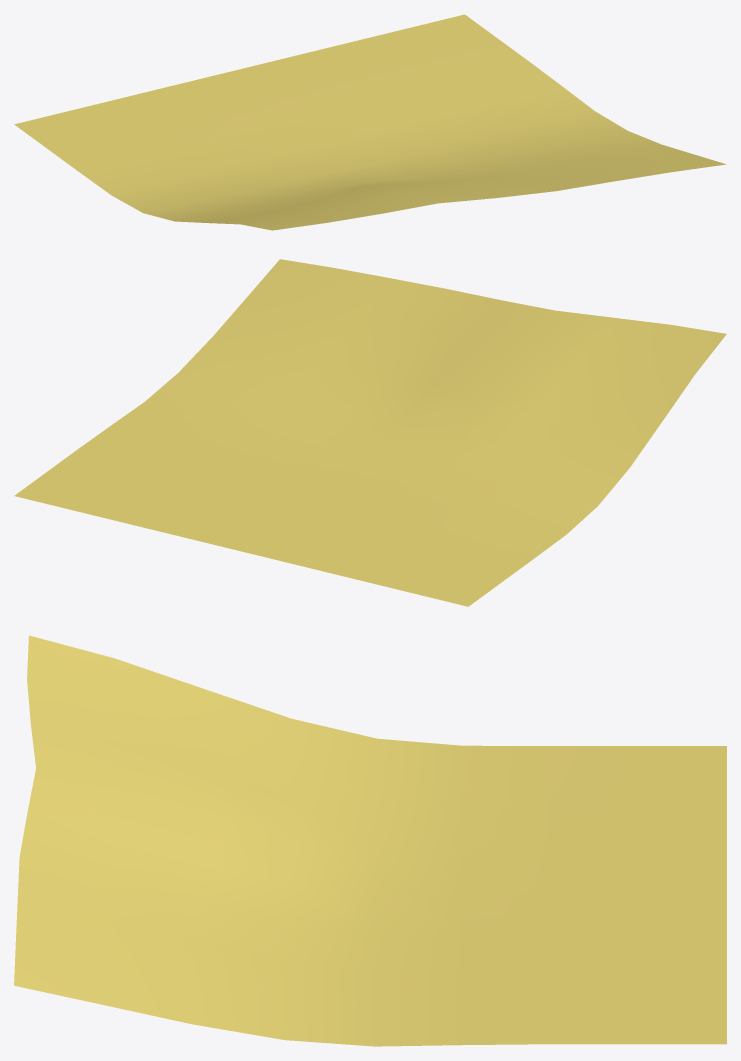
The model's file is Sticky Note.fbx.
The picture shows the model from 3 angles, top to bottom: view 1: azimuth 30°, elevation 25°; view 2: azimuth 150°, elevation 25°; view 3: azimuth 270°, elevation 25°; orthographic projection. The views are drawn at different scales.
Parts seen in each view (by area): view 1: StickyNote; view 2: StickyNote; view 3: StickyNote.
Part boxes in pixels (x1,y1,x2,y2): StickyNote: [14, 14, 726, 230]; StickyNote: [14, 259, 726, 606]; StickyNote: [14, 635, 726, 1046].
Bounding box in the file's own units: 0.3701 × 0.0657 × 0.3739.
